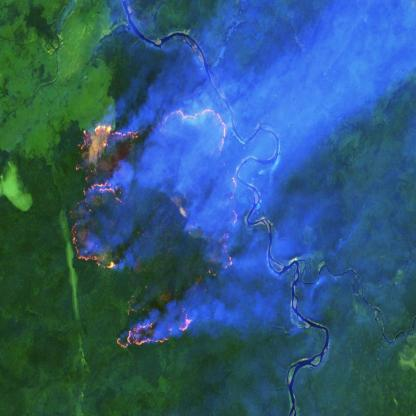fire: (66, 101, 247, 352)
